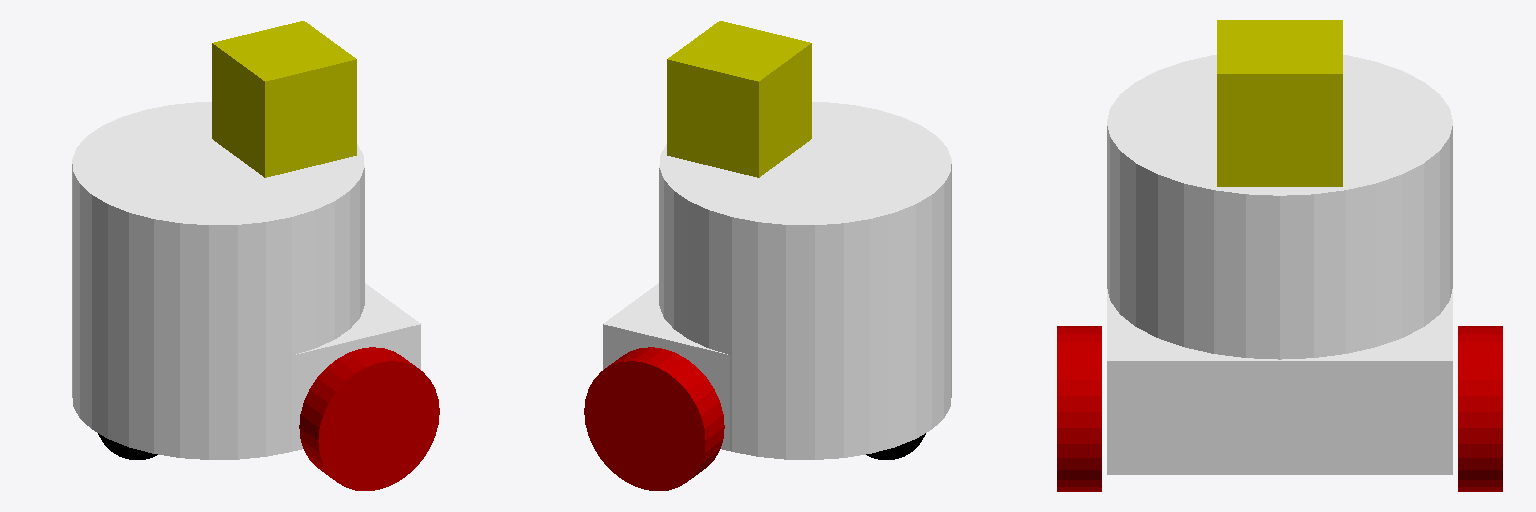
The robot description file, URDF, robot "tbot":
<?xml version="1.0" encoding="utf-8"?>
<!-- =================================================================================== -->
<!-- |    This document was autogenerated by xacro from tbot.urdf.xacro                | -->
<!-- |    EDITING THIS FILE BY HAND IS NOT RECOMMENDED                                 | -->
<!-- =================================================================================== -->
<robot name="tbot" xmlns:xacro="http://www.ros.org/wiki/xacro">
  <!-- Color -->
  <material name="Black">
    <color rgba="0.0 0.0 0.0 1.0"/>
  </material>
  <material name="Blue">
    <color rgba="0.0 0.0 0.8 1.0"/>
  </material>
  <material name="Green">
    <color rgba="0.0 0.8 0.0 1.0"/>
  </material>
  <material name="Gray">
    <color rgba="0.7 0.7 0.7 1.0"/>
  </material>
  <material name="DarkGray">
    <color rgba="0.3 0.3 0.3 1.0"/>
  </material>
  <material name="Red">
    <color rgba="0.8 0.0 0.0 1.0"/>
  </material>
  <material name="White">
    <color rgba="1.0 1.0 1.0 1.0"/>
  </material>
  <material name="Yellow">
    <color rgba="0.8 0.8 0.0 1.0"/>
  </material>
  <!-- in kg-->
  <!-- in kg-->
  <!-- in kg-->
  <!-- base_footprint Definition -->
  <link name="base_footprint"/>
  <!-- base Definition -->
  <link name="base_link">
    <origin rpy="0 0 0" xyz="0 0 0"/>
    <visual>
      <geometry>
        <box size="0.069 0.138 0.050"/>
      </geometry>
      <material name="White"/>
    </visual>
    <inertial>
      <mass value="0.2"/>
      <origin rpy="0 0 0" xyz="0 0 0"/>
      <inertia ixx="0.000359066666667" ixy="0" ixz="0" iyy="0.000121016666667" iyz="0" izz="0.00039675"/>
    </inertial>
  </link>
  <gazebo reference="base_link">
    <material>Gazebo/White</material>
    <turnGravityOff>false</turnGravityOff>
  </gazebo>
  <joint name="base_joint" type="fixed">
    <origin rpy="0 0 0" xyz="0 0 0.045"/>
    <parent link="base_footprint"/>
    <child link="base_link"/>
  </joint>
  <!-- body Definition -->
  <link name="body_link">
    <origin rpy="0 0 0" xyz="0 0 0"/>
    <visual>
      <geometry>
        <cylinder length="0.122" radius="0.069"/>
      </geometry>
      <material name="White"/>
    </visual>
    <inertial>
      <mass value="0.3"/>
      <origin rpy="0 0 0" xyz="0 0 0"/>
      <inertia ixx="0.000729175" ixy="0" ixz="0" iyy="0.000729175" iyz="0" izz="0.00071415"/>
    </inertial>
  </link>
  <gazebo reference="body_link">
    <material>Gazebo/White</material>
    <turnGravityOff>false</turnGravityOff>
  </gazebo>
  <joint name="body_joint" type="fixed">
    <origin rpy="0 0 0" xyz="-0.036 0 0.081"/>
    <parent link="base_footprint"/>
    <child link="body_link"/>
  </joint>
  <!-- sub: l,r 0,1,2,3 etc -->
  <!-- parent: parent link name -->
  <!-- transX transY transZ: xyz position -->
  <link name="wheel_l">
    <visual>
      <origin rpy="1.57079632679 0 0" xyz="0 0 0"/>
      <geometry>
        <cylinder length="0.018" radius="0.033"/>
      </geometry>
      <material name="Red"/>
    </visual>
    <collision>
      <origin rpy="1.57079632679 0 0" xyz="0 0 0"/>
      <geometry>
        <cylinder length="0.018" radius="0.033"/>
      </geometry>
    </collision>
    <inertial>
      <mass value="0.1"/>
      <origin xyz="0 0 0"/>
      <inertia ixx="2.9925e-05" ixy="0" ixz="0" iyy="2.9925e-05" iyz="0" izz="5.445e-05"/>
    </inertial>
  </link>
  <gazebo reference="wheel_l">
    <material>Gazebo/Red</material>
    <turnGravityOff>false</turnGravityOff>
    <mu1 value="1.0"/>
    <mu2 value="1.0"/>
    <kp value="10000000.0"/>
    <kd value="1.0"/>
    <fdir1 value="1 0 0"/>
  </gazebo>
  <joint name="wheel_l_joint" type="continuous">
    <parent link="base_footprint"/>
    <child link="wheel_l"/>
    <origin rpy="0 0 0" xyz="0 0.08 0.033"/>
    <axis xyz="0 1 0"/>
    <limit effort="100" velocity="100"/>
    <joint_properties damping="0.0" friction="0.0"/>
  </joint>
  <!-- Transmission is important to link the joints and the controller -->
  <transmission name="wheel_l_joint_trans">
    <type>transmission_interface/SimpleTransmission</type>
    <joint name="wheel_l_joint">
      <hardwareInterface>VelocityJointInterface</hardwareInterface>
    </joint>
    <actuator name="wheel_l_motor">
      <hardwareInterface>VelocityJointInterface</hardwareInterface>
      <mechanicalReduction>1</mechanicalReduction>
    </actuator>
  </transmission>
  <!-- sub: l,r 0,1,2,3 etc -->
  <!-- parent: parent link name -->
  <!-- transX transY transZ: xyz position -->
  <link name="wheel_r">
    <visual>
      <origin rpy="1.57079632679 0 0" xyz="0 0 0"/>
      <geometry>
        <cylinder length="0.018" radius="0.033"/>
      </geometry>
      <material name="Red"/>
    </visual>
    <collision>
      <origin rpy="1.57079632679 0 0" xyz="0 0 0"/>
      <geometry>
        <cylinder length="0.018" radius="0.033"/>
      </geometry>
    </collision>
    <inertial>
      <mass value="0.1"/>
      <origin xyz="0 0 0"/>
      <inertia ixx="2.9925e-05" ixy="0" ixz="0" iyy="2.9925e-05" iyz="0" izz="5.445e-05"/>
    </inertial>
  </link>
  <gazebo reference="wheel_r">
    <material>Gazebo/Red</material>
    <turnGravityOff>false</turnGravityOff>
    <mu1 value="1.0"/>
    <mu2 value="1.0"/>
    <kp value="10000000.0"/>
    <kd value="1.0"/>
    <fdir1 value="1 0 0"/>
  </gazebo>
  <joint name="wheel_r_joint" type="continuous">
    <parent link="base_footprint"/>
    <child link="wheel_r"/>
    <origin rpy="0 0 0" xyz="0 -0.08 0.033"/>
    <axis xyz="0 1 0"/>
    <limit effort="100" velocity="100"/>
    <joint_properties damping="0.0" friction="0.0"/>
  </joint>
  <!-- Transmission is important to link the joints and the controller -->
  <transmission name="wheel_r_joint_trans">
    <type>transmission_interface/SimpleTransmission</type>
    <joint name="wheel_r_joint">
      <hardwareInterface>VelocityJointInterface</hardwareInterface>
    </joint>
    <actuator name="wheel_r_motor">
      <hardwareInterface>VelocityJointInterface</hardwareInterface>
      <mechanicalReduction>1</mechanicalReduction>
    </actuator>
  </transmission>
  <!-- sub: l,r 0,1,2,3 etc -->
  <!-- parent: parent link name -->
  <!-- transX transY transZ: xyz position -->
  <link name="caster_0">
    <visual>
      <origin rpy="0 0 0" xyz="0 0 0"/>
      <geometry>
        <sphere radius="0.02"/>
      </geometry>
      <material name="Black"/>
    </visual>
    <collision>
      <origin rpy="0 0 0" xyz="0 0 0"/>
      <geometry>
        <sphere radius="0.02"/>
      </geometry>
    </collision>
    <inertial>
      <mass value="0.1"/>
      <origin xyz="0 0 0"/>
      <inertia ixx="8e-06" ixy="0" ixz="0" iyy="8e-06" iyz="0" izz="8e-06"/>
    </inertial>
  </link>
  <gazebo reference="caster_0">
    <turnGravityOff>false</turnGravityOff>
    <material>Gazebo/Black</material>
    <mu1 value="0.0"/>
    <mu2 value="0.0"/>
  </gazebo>
  <joint name="caster_0_joint" type="fixed">
    <parent link="base_footprint"/>
    <child link="caster_0"/>
    <origin rpy="0 0 0" xyz="-0.08 0 0.02"/>
  </joint>
  <!-- sub: l,r 0,1,2,3 etc -->
  <!-- parent: parent link name -->
  <!-- transX transY transZ: xyz position -->
  <link name="lidar_0">
    <visual>
      <origin rpy="0 0 0" xyz="0 0 0"/>
      <geometry>
        <box size="0.05 0.05 0.05"/>
      </geometry>
      <material name="Yellow"/>
    </visual>
  </link>




  <joint name="lidar_0_joint" type="fixed">
    <origin rpy="0 0 0" xyz="0 0 0.167"/>
    <parent link="base_footprint"/>
    <child link="lidar_0"/>
  </joint>
  <gazebo reference="lidar_0">
    <material>Gazebo/Yellow</material>
    <turnGravityOff>false</turnGravityOff>
    <sensor name="lidar_0_sensor" type="ray">
      <pose>0.025 0 0 0 0 0</pose>
      <visualize>true</visualize>
      <update_rate>40</update_rate>
      <ray>
        <scan>
          <horizontal>
            <samples>640</samples>
            <resolution>1</resolution>
            <min_angle>-2.094395</min_angle>
            <max_angle>2.094395</max_angle>
          </horizontal>
        </scan>
        <range>
          <min>0.10</min>
          <max>10.0</max>
          <resolution>0.01</resolution>
        </range>
      </ray>
      <plugin filename="libgazebo_ros_laser.so" name="gazebo_ros_head_hokuyo_controller">
        <topicName>/scan</topicName>
        <frameName>lidar_0</frameName>
      </plugin>
    </sensor>
  </gazebo>
  <!-- Differential drive controller  -->
  <gazebo>
    <plugin filename="libgazebo_ros_diff_drive.so" name="differential_drive_controller">
      <commandTopic>cmd_vel</commandTopic>
      <odometryTopic>odom</odometryTopic>
      <odometryFrame>odom</odometryFrame>
      <odometrySource>world</odometrySource>
      <robotBaseFrame>base_footprint</robotBaseFrame>
      <publishOdomTF>true</publishOdomTF>
      <publishWheelTF>false</publishWheelTF>
      <publishTf>1</publishTf>
      <publishWheelJointState>false</publishWheelJointState>
      <legacyMode>false</legacyMode>
      <updateRate>30</updateRate>
      <leftJoint>wheel_l_joint</leftJoint>
      <rightJoint>wheel_r_joint</rightJoint>
      <wheelSeparation>0.160</wheelSeparation>
      <wheelDiameter>0.066</wheelDiameter>
      <wheelAcceleration>1.8</wheelAcceleration>
      <wheelTorque>10</wheelTorque>
      <rosDebugLevel>Debug</rosDebugLevel>
    </plugin>
  </gazebo>


  <link name="gps_link" />
    <joint name="gps_joint" type="fixed">
      <parent link="base_link" />
      <child link="gps_link" />
    </joint>
    
  <gazebo>  
      <plugin name="gps" filename="libhector_gazebo_ros_gps.so">  
          <updateRate>10.0</updateRate>  
          <topicName>gps/fix</topicName>  
          <gaussianNoise>0.0 0.0 0.0</gaussianNoise>  
          <offset>0 0 0</offset>  
          <velocityGaussianNoise>0 0 0</velocityGaussianNoise>  
          <frameId>gps_link</frameId>  
      </plugin>  
  </gazebo>
</robot>

--- What the picture shows (computed from the rendered views, not written in the file) ---
3 views of the same robot in one strip: view 1: azimuth 30°, elevation 25°; view 2: azimuth 150°, elevation 25°; view 3: azimuth 270°, elevation 25° (orthographic).
Robot: tbot — 8 links, 7 joints (2 continuous, 5 fixed); root link base_footprint; default pose: all joints at 0.
Links seen in each view (by area): view 1: body_link, lidar_0, wheel_r, base_link, caster_0; view 2: body_link, lidar_0, wheel_l, base_link, caster_0; view 3: body_link, base_link, lidar_0, wheel_l, wheel_r.
Link boxes in pixels (bbox=[...]): body_link: bbox=[72, 102, 364, 459]; lidar_0: bbox=[212, 21, 356, 177]; wheel_r: bbox=[299, 347, 439, 490]; base_link: bbox=[294, 283, 420, 450]; caster_0: bbox=[98, 433, 157, 459]; body_link: bbox=[659, 102, 951, 459]; lidar_0: bbox=[667, 21, 811, 177]; wheel_l: bbox=[584, 347, 724, 490]; base_link: bbox=[603, 283, 729, 450]; caster_0: bbox=[866, 433, 925, 459]; body_link: bbox=[1107, 55, 1452, 359]; base_link: bbox=[1107, 289, 1452, 474]; lidar_0: bbox=[1217, 20, 1342, 186]; wheel_l: bbox=[1458, 326, 1502, 491]; wheel_r: bbox=[1057, 326, 1101, 491].
Bounding box of the posed robot: 0.1395 × 0.178 × 0.192 m (x, y, z).
Geometry: primitives only (box / cylinder / sphere), no mesh files.
